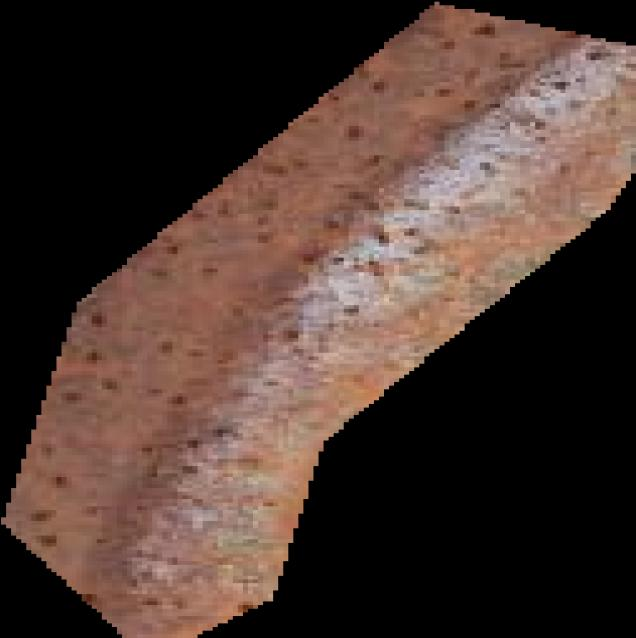Pitting Corrosion: (1, 0, 636, 638)
